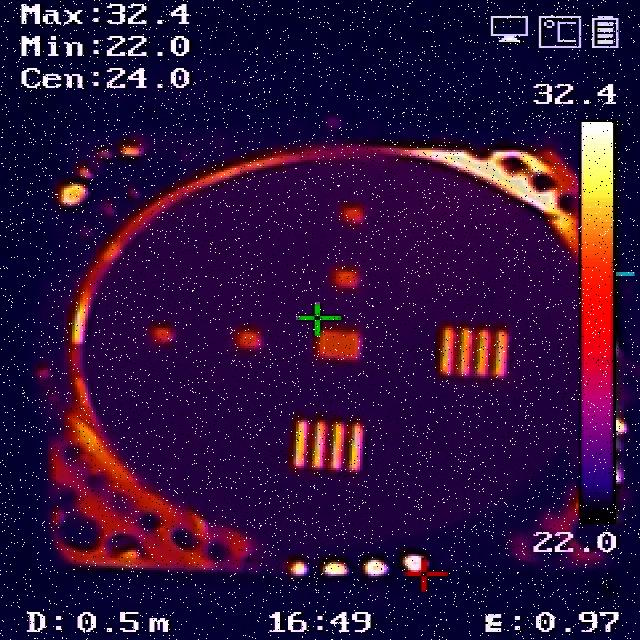Distinguishable 4-bar target: (432, 323, 515, 383), (289, 413, 367, 475)
Indistinguishable 4-bar target: (315, 327, 364, 362), (330, 271, 362, 289), (239, 329, 264, 348), (342, 207, 362, 223), (155, 326, 173, 341)
